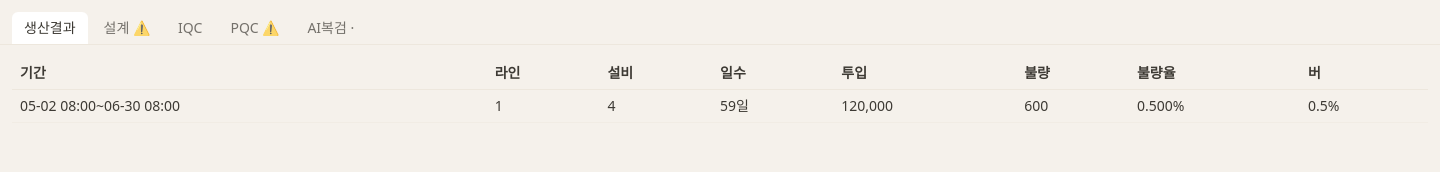
StageTabs › shows a failure message on the design tab when its extraction errored
Step 1. Click the tab "설계 ⚠" → {"x": 127, "y": 28}, box [92, 12, 162, 44]
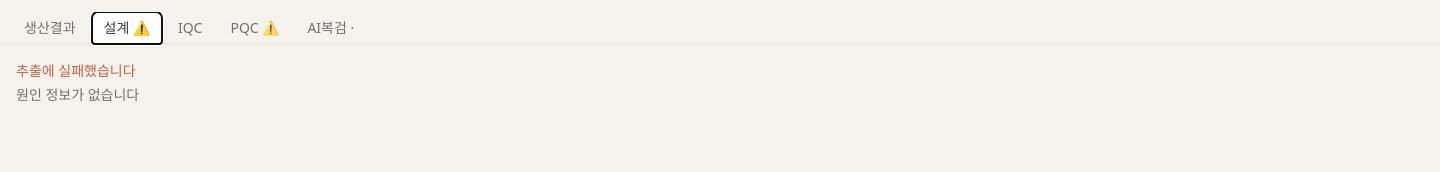
Expected: the text "추출에 실패했습니다" is shown, [16, 61, 136, 80]
